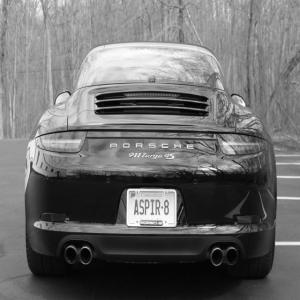Plate: (126, 188, 177, 227)
